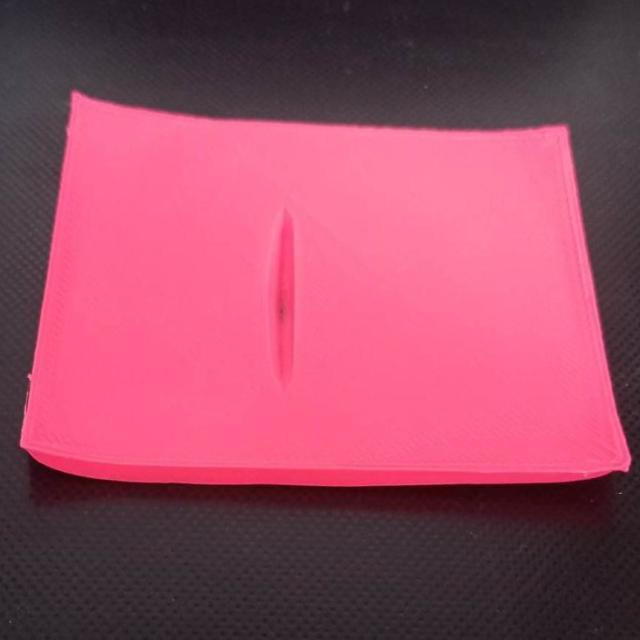warping: (21, 443, 92, 480), (566, 455, 630, 494)
